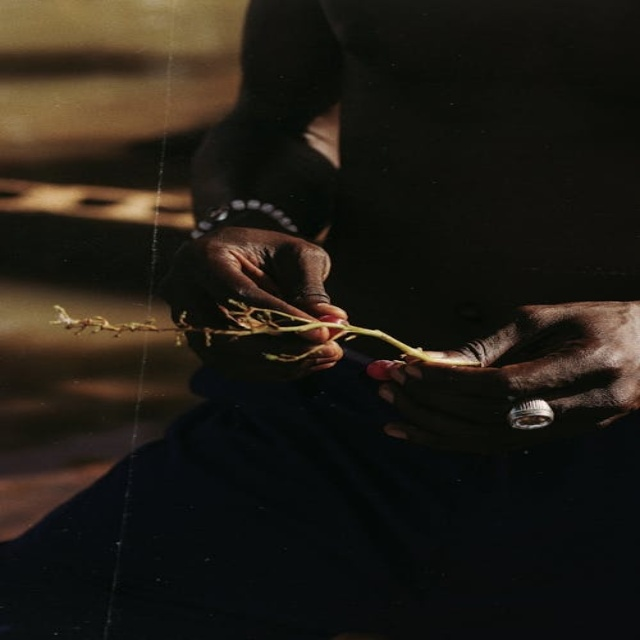Sin_guantes: (372, 298, 640, 452), (158, 224, 344, 363)
